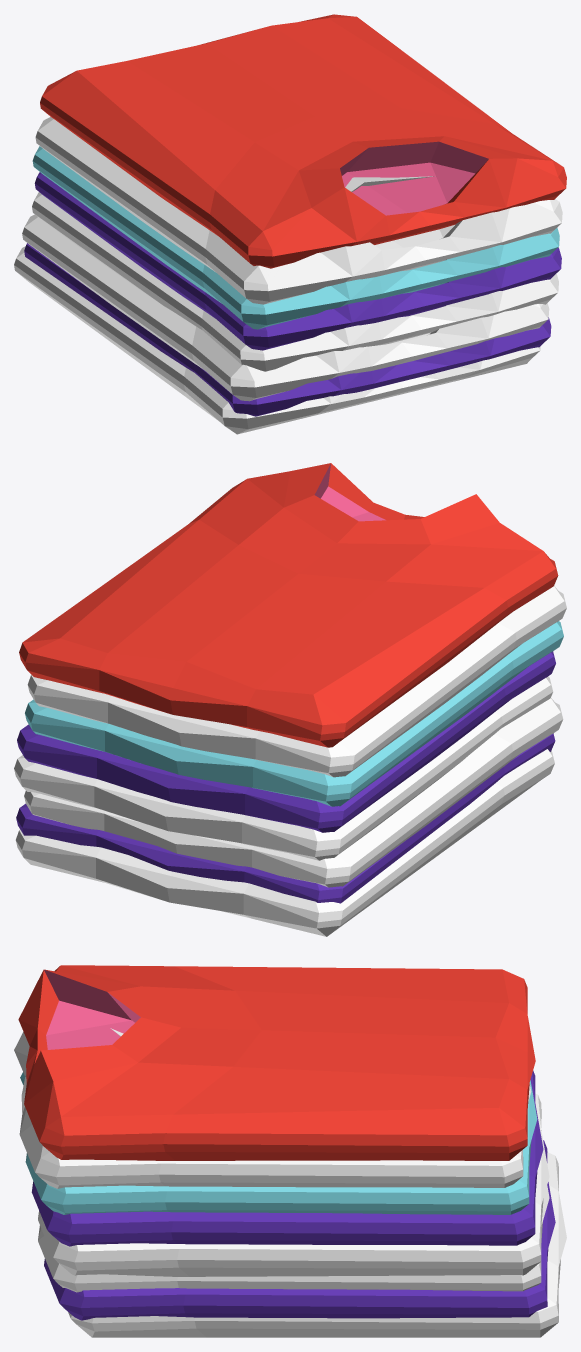
Rendered from T-Shirts - folded.glb.
3 views of the same model, one above another, from view 1: azimuth 30°, elevation 25°; view 2: azimuth 150°, elevation 25°; view 3: azimuth 270°, elevation 25° (orthographic). The views are drawn at different scales.
Parts seen in each view (by area): view 1: group1851623675, group536945768, group557985648, group102699622, group622056156, group477484578, group226575992, group988438851; view 2: group1851623675, group536945768, group226575992, group557985648, group102699622, group622056156, group477484578, group988438851; view 3: group1851623675, group477484578, group622056156, group988438851, group536945768, group102699622, group226575992, group557985648.
Boxes of the visible parts, x1,y1,x2,y2 form: group1851623675: (40, 14, 566, 268); group536945768: (35, 117, 562, 304); group557985648: (22, 214, 549, 401); group102699622: (32, 146, 559, 329); group622056156: (32, 192, 558, 371); group477484578: (34, 172, 561, 350); group226575992: (14, 246, 540, 434); group988438851: (24, 243, 551, 416); group1851623675: (19, 463, 558, 747); group536945768: (27, 586, 566, 777); group226575992: (15, 749, 554, 936); group557985648: (24, 698, 563, 887); group102699622: (25, 621, 563, 806); group622056156: (14, 676, 553, 860); group477484578: (17, 651, 555, 832); group988438851: (16, 733, 555, 903); group1851623675: (18, 965, 535, 1160); group477484578: (31, 1070, 543, 1246); group622056156: (38, 1093, 549, 1276); group988438851: (44, 1140, 555, 1320); group536945768: (14, 1028, 531, 1188); group102699622: (20, 1072, 537, 1214); group226575992: (68, 1152, 566, 1337); group557985648: (38, 1130, 549, 1292).
Size of the model in its own units: 0.673 by 0.474 by 0.91.
